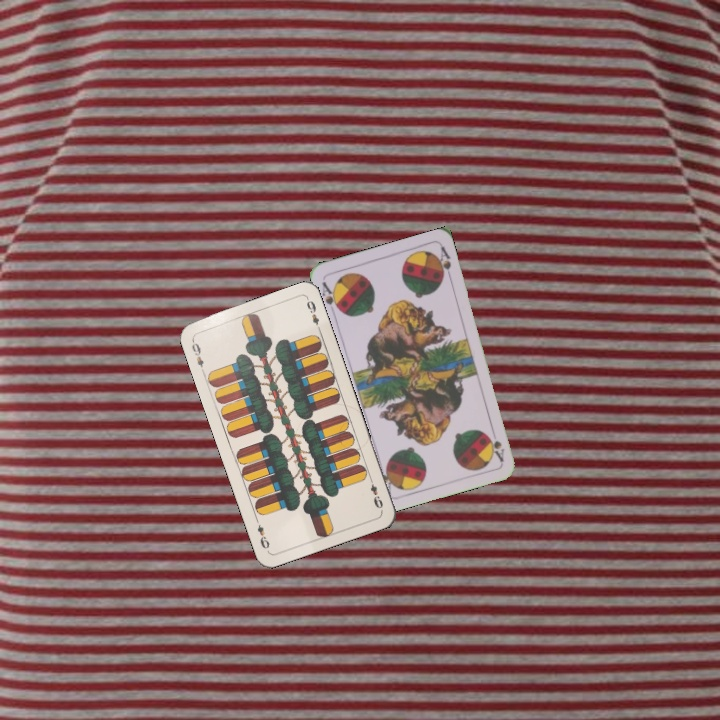E9: (365, 473, 386, 511), (188, 336, 207, 375)
SA: (484, 424, 507, 464), (318, 278, 343, 314)
